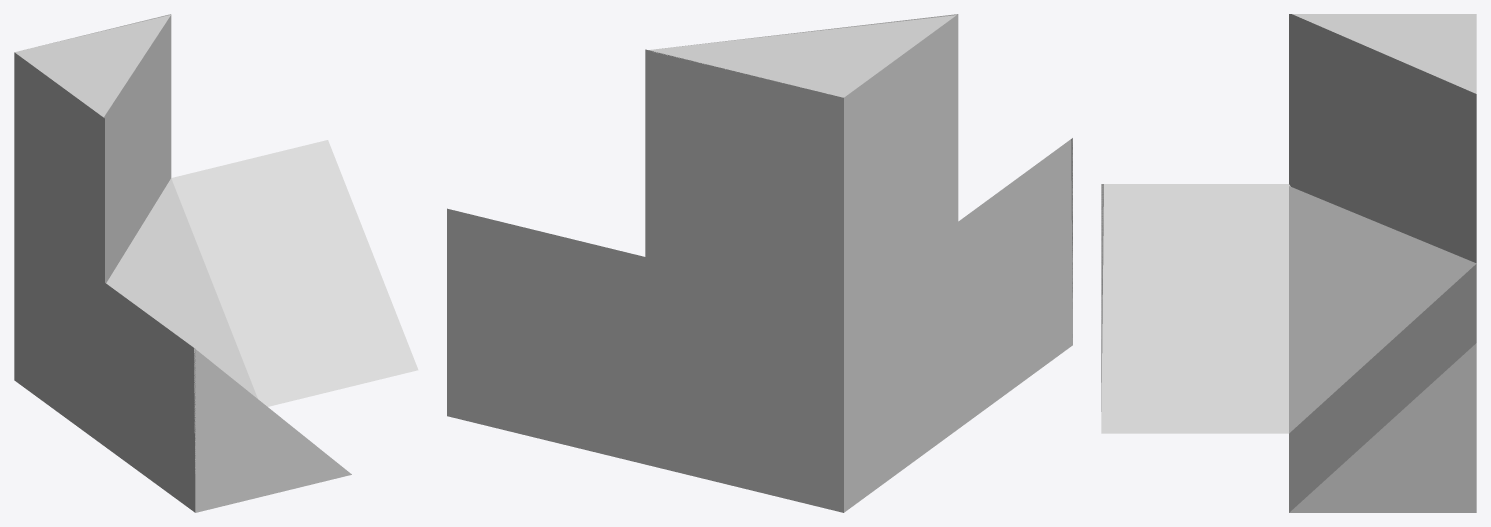
The model's file is r5c5_body_light_grey.gltf.
The picture shows the model from 3 angles, left to right: view 1: azimuth 30°, elevation 25°; view 2: azimuth 150°, elevation 25°; view 3: azimuth 270°, elevation 25°; orthographic projection. The views are drawn at different scales.
Visible parts, largest first — view 1: r5c5_body_light_grey; view 2: r5c5_body_light_grey; view 3: r5c5_body_light_grey.
Boxes of the visible parts, <box> form: r5c5_body_light_grey: <box>14,14,418,512</box>; r5c5_body_light_grey: <box>447,14,1072,512</box>; r5c5_body_light_grey: <box>1101,14,1476,512</box>.
Size of what is drawn, in the model's own units: 2 by 2 by 2.
1 material, 1 textured.
